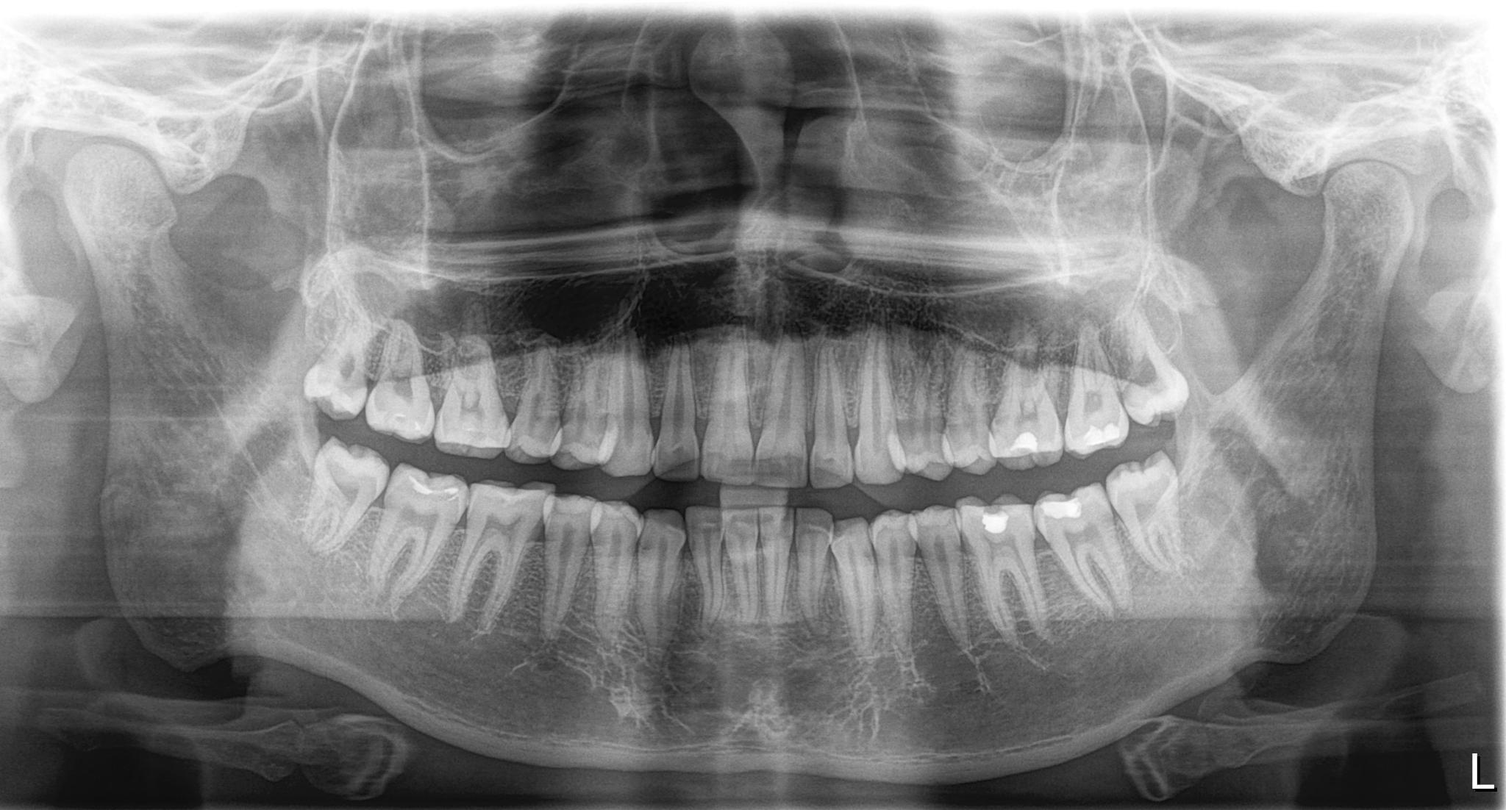Dental Caries: (860, 549, 877, 568)
Impacted Third Molar: (314, 438, 380, 542)
